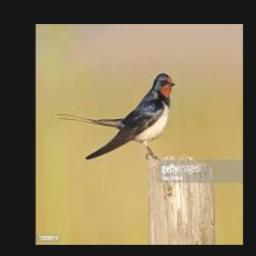Swallow: (58, 72, 175, 159)
